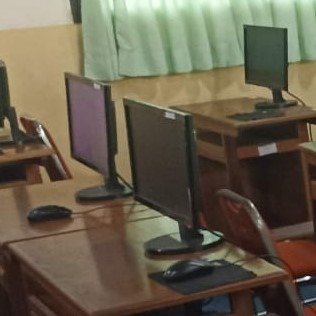monitor: (121, 96, 201, 235), (64, 72, 122, 195), (243, 25, 288, 91)
